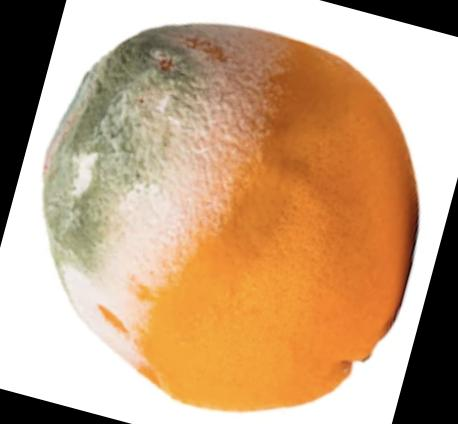Orange Rotten: (37, 13, 425, 413)
